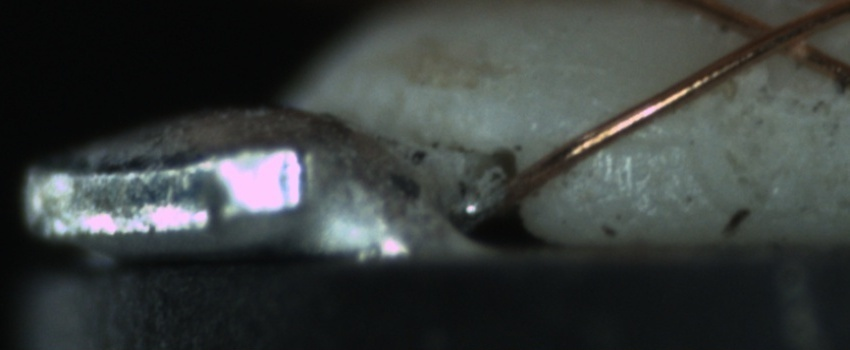CL: (729, 4, 824, 65)
DL: (603, 114, 691, 170)
